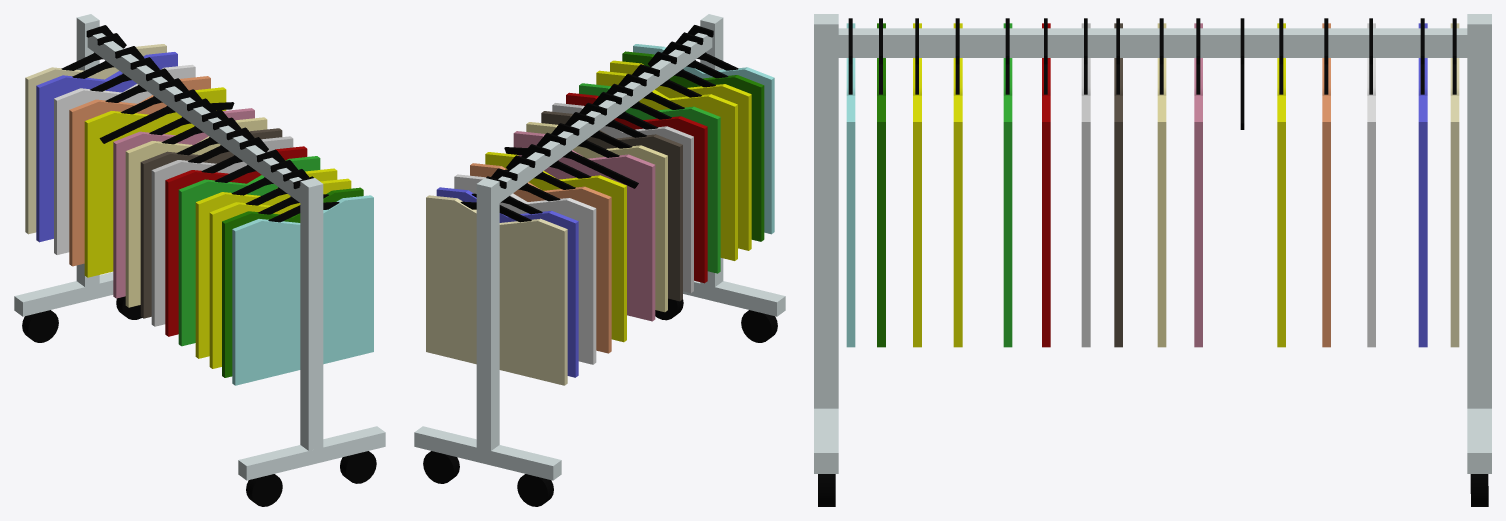
File: Clothing Rack.fbx
3 renders of one model, left to right at view 1: azimuth 30°, elevation 25°; view 2: azimuth 150°, elevation 25°; view 3: azimuth 270°, elevation 25°, orthographic. The views are drawn at different scales.
Visible parts, largest first — view 1: clothe (×15), cintre_full (×15), pCube28, pCube29, pCube31, pCube30, pCube27, cintre_empty, pCylinder2, pCylinder5, pCylinder4; view 2: clothe (×15), cintre_full (×15), pCube27, pCube29, pCube30, pCube31, pCube28, cintre_empty, pCylinder3, pCylinder5, pCylinder2; view 3: clothe (×15), pCube29, pCube27, pCube28, pCube30, pCube31.
Part boxes in pixels (<box>): clothe (×15): <box>25,44,373,385</box>; cintre_full (×15): <box>61,25,339,222</box>; pCube28: <box>300,178,323,450</box>; pCube29: <box>87,33,301,202</box>; pCube31: <box>238,426,385,480</box>; pCube30: <box>14,272,113,316</box>; pCube27: <box>76,14,99,289</box>; cintre_empty: <box>99,78,234,143</box>; pCylinder2: <box>22,310,58,342</box>; pCylinder5: <box>246,474,282,506</box>; pCylinder4: <box>340,451,376,483</box>; clothe (×15): <box>426,44,774,385</box>; cintre_full (×15): <box>460,25,738,222</box>; pCube27: <box>476,178,499,453</box>; pCube29: <box>498,33,712,202</box>; pCube30: <box>414,426,561,480</box>; pCube31: <box>683,280,785,316</box>; pCube28: <box>700,14,723,289</box>; cintre_empty: <box>504,123,638,188</box>; pCylinder3: <box>423,451,459,483</box>; pCylinder5: <box>741,310,777,342</box>; pCylinder2: <box>517,474,553,506</box>; clothe (×15): <box>846,23,1459,347</box>; pCube29: <box>838,28,1467,57</box>; pCube27: <box>1467,14,1491,408</box>; pCube28: <box>814,14,838,408</box>; pCube30: <box>1467,408,1491,473</box>; pCube31: <box>814,408,838,473</box>.
Bounding box in the file's own units: 0.5955 × 1.27 × 1.72.
